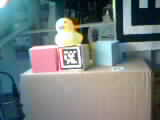duck: (48, 16, 79, 46)
